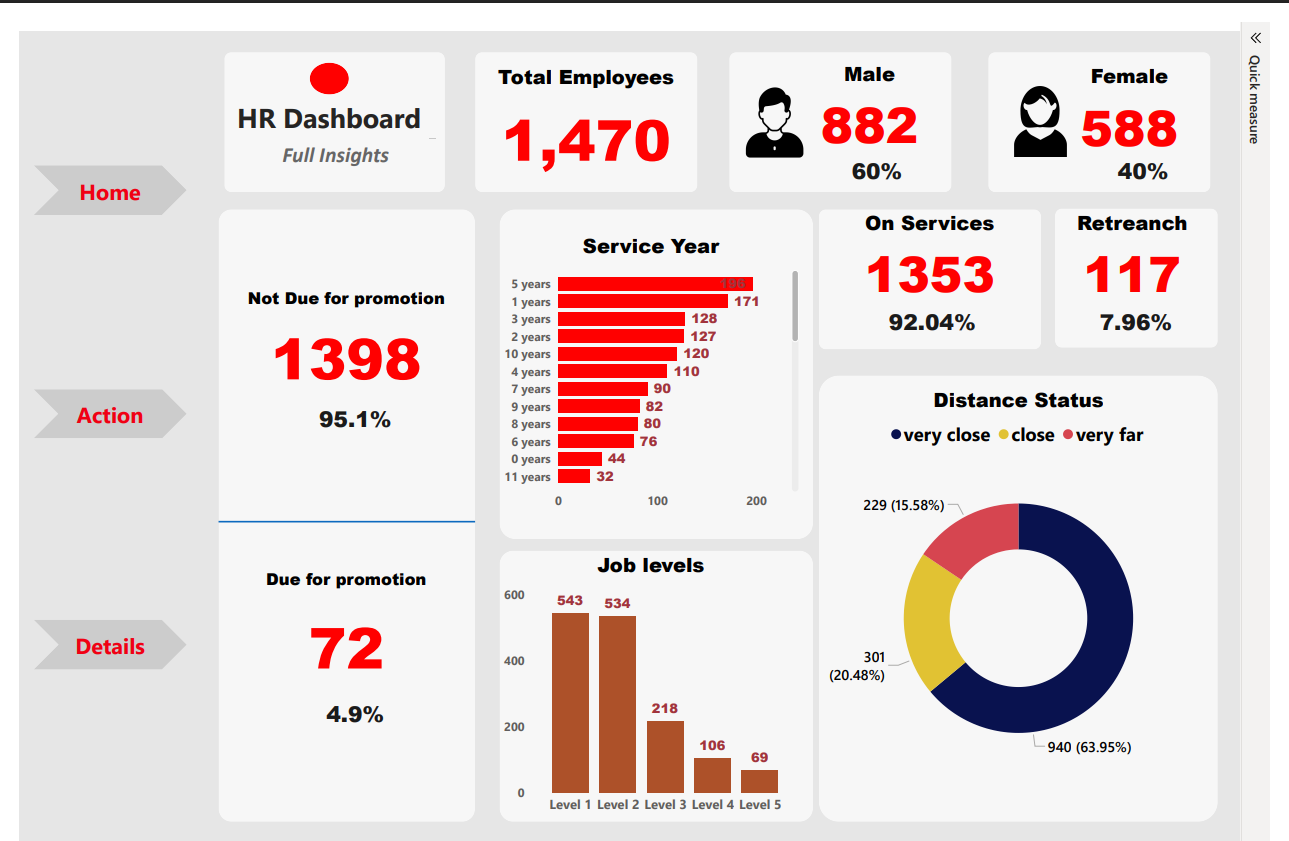

This screenshot's page, from the dashboard's own definition file:
{"tool":"powerbi","page":{"name":"Home","canvas":[1500,1000],"ordinal":0},"visuals":[{"type":"shape","box":[251.7,25,271.7,171.7],"z":0},{"type":"textbox","title":"HR Dashboard","box":[245,81.7,271.7,55],"z":1000},{"type":"textbox","title":"Full Insights","box":[310,135,158.3,35],"z":2000},{"type":"shape","box":[356.7,38.3,48.3,38.3],"z":3000},{"type":"shape","box":[560,25,273.3,171.7],"z":4000},{"type":"card","title":"Total Employees","fields":{"Values":["Measures (2).Total Emp"]},"box":[560,38.3,273.3,145],"z":5000},{"type":"shape","box":[871.7,25,273.3,171.7],"z":6000},{"type":"shape","box":[1190,25,273.3,171.7],"z":7000},{"type":"card","title":"Male","fields":{"Values":["Measures (2).Male"]},"box":[966.7,35,155,118.3],"z":8000},{"type":"card","title":"Female","fields":{"Values":["Measures (2).Female"]},"box":[1226.5,36.9,273.1,119],"z":9000},{"type":"card","title":"Male","fields":{"Values":["Measures (2).% male"]},"box":[961.7,126.7,183.3,90],"z":10000},{"type":"card","title":"Male","fields":{"Values":["Measures (2).% Female"]},"box":[1289.4,126.9,182.5,90.4],"z":11000},{"type":"image","box":[880,60,95,103.3],"z":12000},{"type":"image","box":[1206.4,58.6,95.5,102.2],"z":13000},{"type":"shape","box":[244.6,217.8,315,752.3],"z":14000},{"type":"card","title":"Not Due for promotion","fields":{"Values":["Measures (2).Not due"]},"box":[266.4,311.7,271.4,139.1],"z":15000},{"type":"card","title":"Due for promotion","fields":{"Values":["Measures (2).Due for promotion"]},"box":[266.4,656.8,271.4,159.2],"z":16000},{"type":"card","fields":{"Values":["Hr Analytics.%Not due"]},"box":[288.2,420.6,249.7,110.6],"z":17000},{"type":"card","fields":{"Values":["Measures (2).%Due for promotion"]},"box":[288.2,782.5,249.7,110.6],"z":18000},{"type":"shape","box":[244.6,594.8,315,13.4],"z":19000},{"type":"shape","box":[589.8,217.8,385.4,405.5],"z":20000},{"type":"barChart","title":"Service Year","fields":{"Category":["Hr Analytics.Service Year"],"Y":["All Measure.Total Emp"]},"box":[589.8,246.3,372,350.2],"z":21000},{"type":"shape","box":[589.8,636.7,385.4,333.4],"z":22000},{"type":"columnChart","title":"Job levels","fields":{"Category":["Hr Analytics.Job levels"],"Y":["All Measure.Total Emp"]},"box":[589.8,636.7,372,333.4],"z":23000},{"type":"shape","box":[981.7,218.3,273.3,171.7],"z":24000},{"type":"shape","box":[1271.7,216.7,200,171.7],"z":25000},{"type":"card","title":"On Services","fields":{"Values":["All Measure.On Service"]},"box":[981.7,216.7,273.3,118.3],"z":26000},{"type":"card","title":"Retreanch","fields":{"Values":["All Measure.Will be retreanched"]},"box":[1261.7,216.7,210,118.3],"z":27000},{"type":"card","title":"Male","fields":{"Values":["All Measure.% On Servie"]},"box":[1030,311.7,183.3,90],"z":28000},{"type":"card","title":"Male","fields":{"Values":["All Measure.% Retreanch"]},"box":[1280,311.7,183.3,90],"z":29000},{"type":"shape","box":[981.7,421.7,490,548.3],"z":30000},{"type":"donutChart","title":" Distance Status","fields":{"Category":["Hr Analytics.Distance Status"],"Y":["All Measure.Total Emp"]},"box":[988.3,435,478.3,498.3],"z":31000},{"type":"shape","box":[18.4,164.2,187.7,60.3],"z":32000},{"type":"shape","box":[18.4,439,187.7,60.3],"z":33000},{"type":"shape","box":[18.4,722.2,187.7,60.3],"z":34000}]}

Visuals, with their boxes on the page's 1500x1000 design canvas (x1, y1, x2, y2). These are canvas units, not pixel positions in the 1289x841 screenshot, which may show the page scaled, cropped or inside an application window:
shape: [x1=252, y1=25, x2=523, y2=197]
"HR Dashboard" textbox: [x1=245, y1=82, x2=517, y2=137]
"Full Insights" textbox: [x1=310, y1=135, x2=468, y2=170]
shape: [x1=357, y1=38, x2=405, y2=77]
shape: [x1=560, y1=25, x2=833, y2=197]
"Total Employees" card: [x1=560, y1=38, x2=833, y2=183]
shape: [x1=872, y1=25, x2=1145, y2=197]
shape: [x1=1190, y1=25, x2=1463, y2=197]
"Male" card: [x1=967, y1=35, x2=1122, y2=153]
"Female" card: [x1=1226, y1=37, x2=1500, y2=156]
"Male" card: [x1=962, y1=127, x2=1145, y2=217]
"Male" card: [x1=1289, y1=127, x2=1472, y2=217]
image: [x1=880, y1=60, x2=975, y2=163]
image: [x1=1206, y1=59, x2=1302, y2=161]
shape: [x1=245, y1=218, x2=560, y2=970]
"Not Due for promotion" card: [x1=266, y1=312, x2=538, y2=451]
"Due for promotion" card: [x1=266, y1=657, x2=538, y2=816]
card - Hr Analytics.%Not due: [x1=288, y1=421, x2=538, y2=531]
card - Measures (2).%Due for promotion: [x1=288, y1=782, x2=538, y2=893]
shape: [x1=245, y1=595, x2=560, y2=608]
shape: [x1=590, y1=218, x2=975, y2=623]
"Service Year" barChart: [x1=590, y1=246, x2=962, y2=596]
shape: [x1=590, y1=637, x2=975, y2=970]
"Job levels" columnChart: [x1=590, y1=637, x2=962, y2=970]
shape: [x1=982, y1=218, x2=1255, y2=390]
shape: [x1=1272, y1=217, x2=1472, y2=388]
"On Services" card: [x1=982, y1=217, x2=1255, y2=335]
"Retreanch" card: [x1=1262, y1=217, x2=1472, y2=335]
"Male" card: [x1=1030, y1=312, x2=1213, y2=402]
"Male" card: [x1=1280, y1=312, x2=1463, y2=402]
shape: [x1=982, y1=422, x2=1472, y2=970]
" Distance Status" donutChart: [x1=988, y1=435, x2=1467, y2=933]
shape: [x1=18, y1=164, x2=206, y2=224]
shape: [x1=18, y1=439, x2=206, y2=499]
shape: [x1=18, y1=722, x2=206, y2=782]
